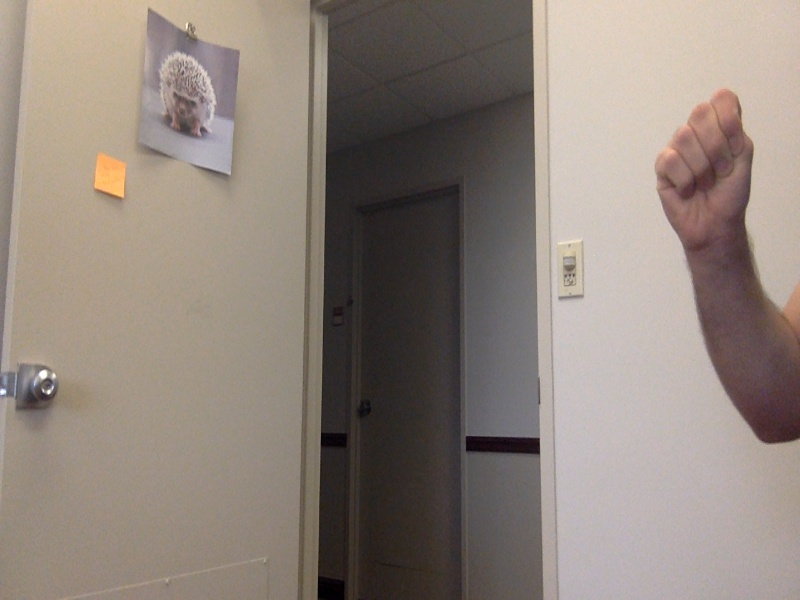0-hand: (650, 88, 759, 251)
